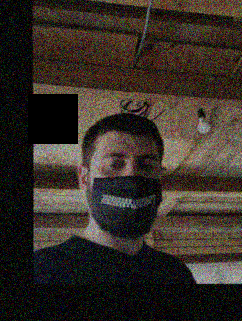with_mask: (91, 145, 162, 233)
